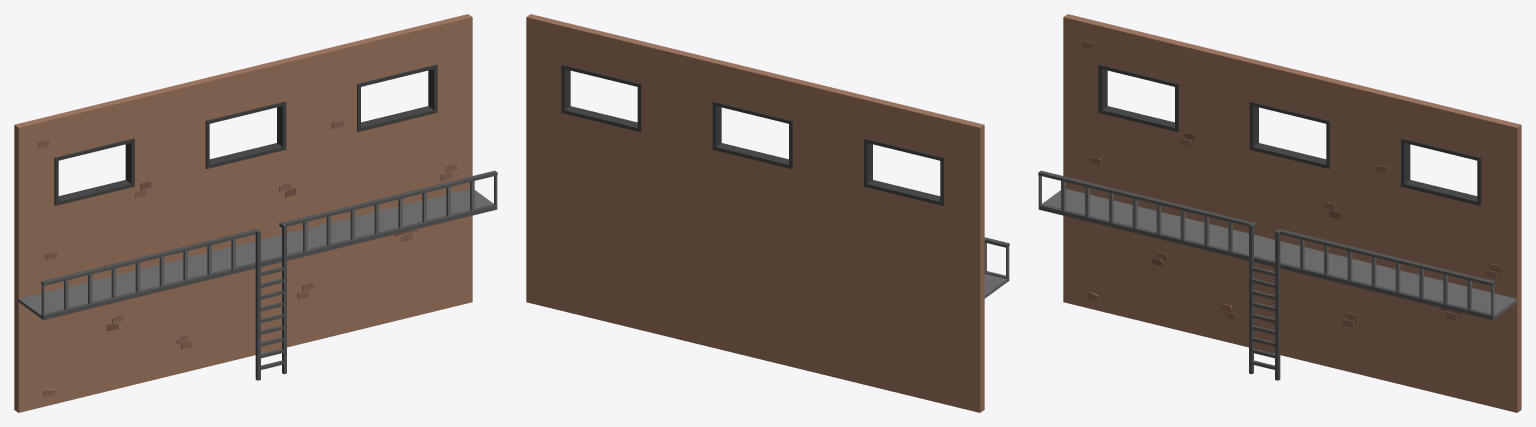
File: Wall_01.fbx
3 renders of one model, left to right at view 1: azimuth 30°, elevation 25°; view 2: azimuth 150°, elevation 25°; view 3: azimuth 330°, elevation 25°, orthographic.
Visible parts, largest first — view 1: Wall_01; view 2: Wall_01; view 3: Wall_01.
Part boxes in pixels (box(x1,y1,x2,y2)): Wall_01: box(14, 14, 497, 412); Wall_01: box(526, 14, 1009, 412); Wall_01: box(1038, 14, 1521, 412).
Bounding box in the file's own units: 1500 × 900 × 183.
